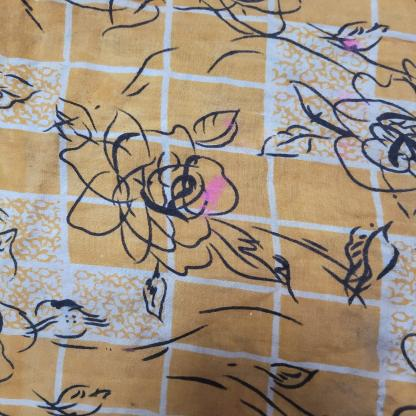spot: (187, 165, 238, 236), (335, 30, 369, 62), (333, 82, 369, 112), (216, 114, 241, 139), (334, 374, 359, 394), (338, 134, 354, 164)
